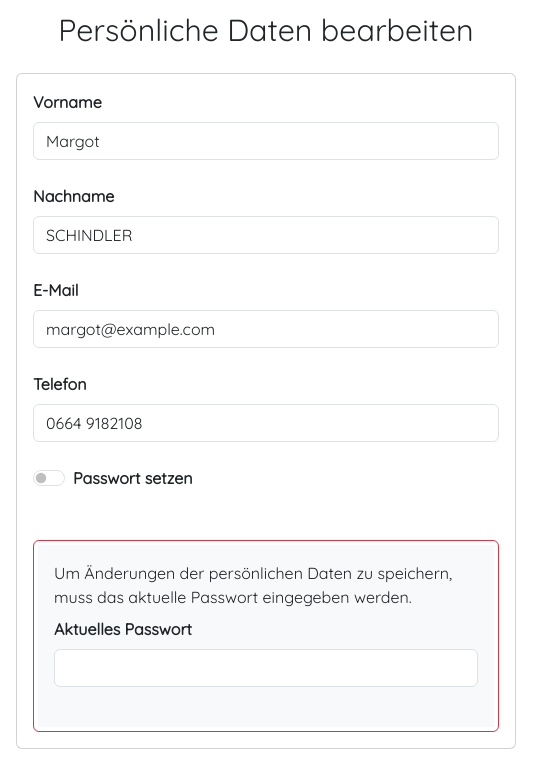
Scenario: ProfileFormView › hides the new-password fields until "Passwort setzen" is toggled
Click the switch labelled "Passwort setzen": (49, 478) [33, 470, 65, 486]
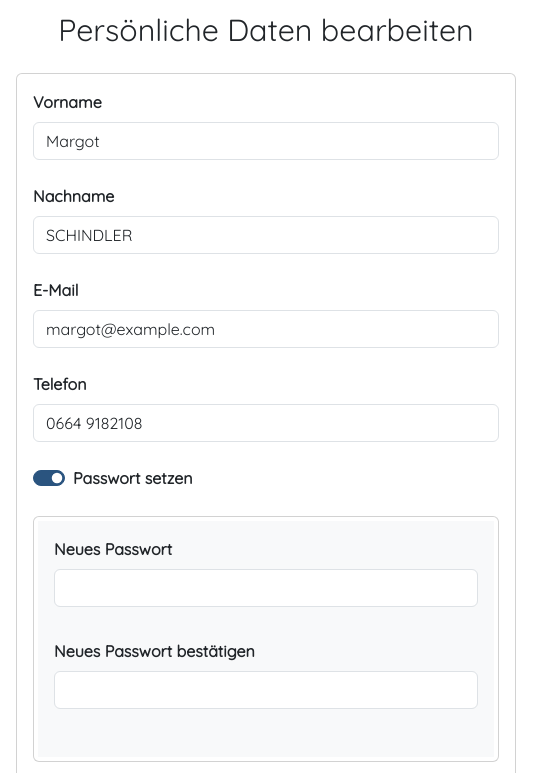
Result: the password field labelled "Neues Passwort" is shown at [54, 568, 478, 606]
Result: the password field labelled "Neues Passwort bestätigen" is shown at [54, 670, 478, 708]
